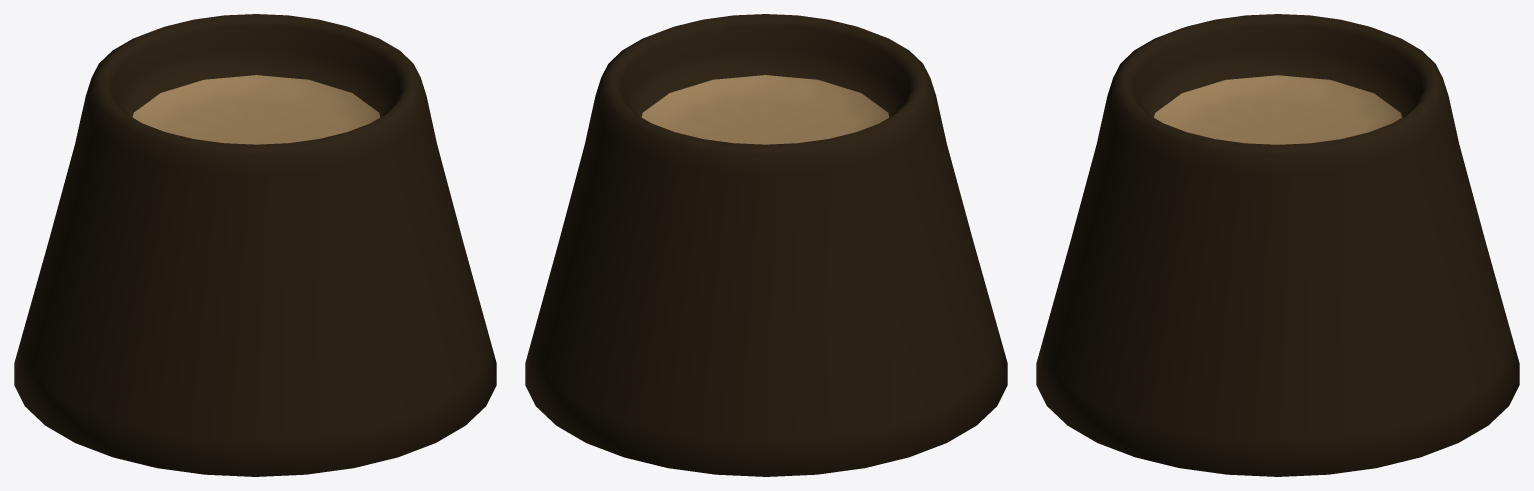
The model's file is Trunk.fbx.
The picture shows the model from 3 angles, left to right: view 1: azimuth 30°, elevation 25°; view 2: azimuth 150°, elevation 25°; view 3: azimuth 270°, elevation 25°; orthographic projection.
Parts seen in each view (by area): view 1: pCylinder1; view 2: pCylinder1; view 3: pCylinder1.
Part boxes in pixels (box(x1,y1,x2,y2)): pCylinder1: box(14, 14, 496, 476); pCylinder1: box(525, 14, 1007, 476); pCylinder1: box(1036, 14, 1519, 476).
Size of the model in its own units: 2.95 by 2 by 2.93.
